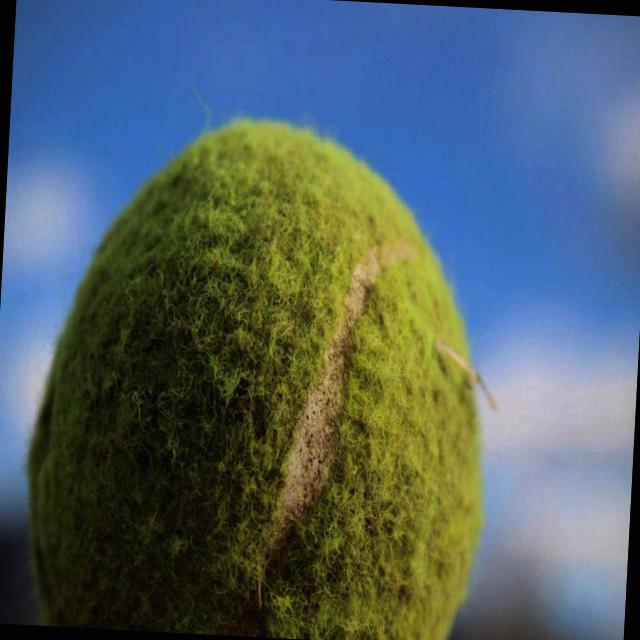ball: (12, 98, 513, 640)
